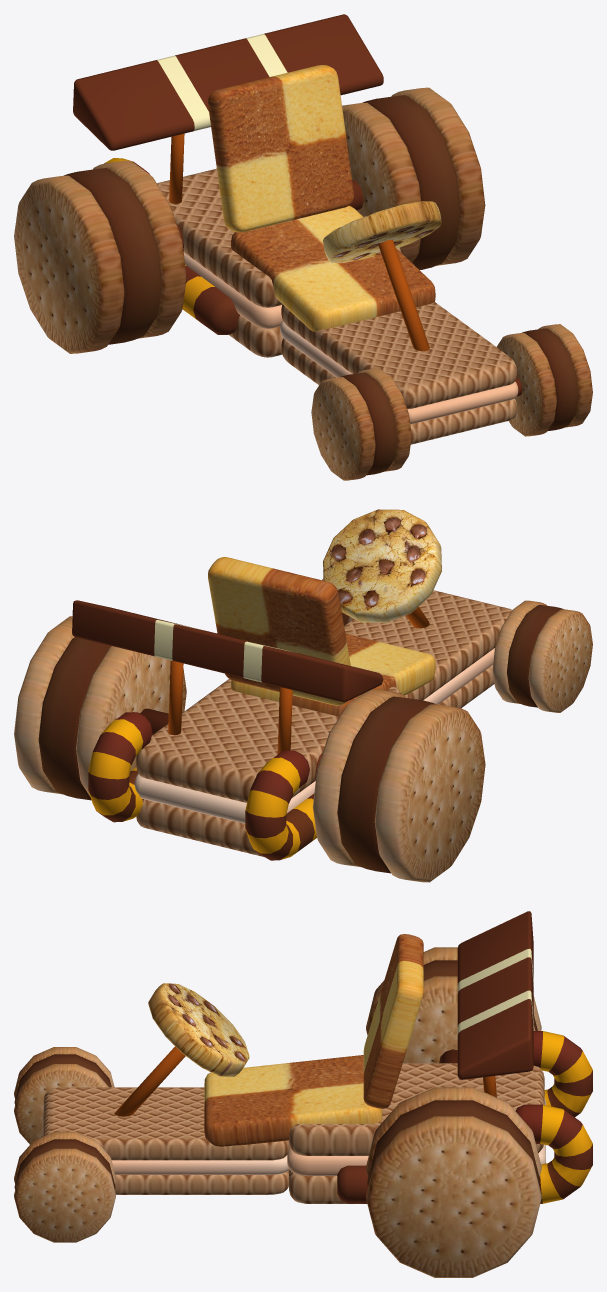
Rendered from cw_car13.fbx.
The picture shows the model from 3 angles, top to bottom: view 1: azimuth 30°, elevation 25°; view 2: azimuth 150°, elevation 25°; view 3: azimuth 270°, elevation 25°; orthographic projection. The views are drawn at different scales.
Visible parts, largest first — view 1: cw_car13, w13.002, w13.003, w13, w13.001; view 2: cw_car13, w13.002, w13.003, w13; view 3: cw_car13, w13.003, w13.001, w13.002, w13.
Boxes of the visible parts, x1,y1,x2,y2 form: cw_car13: (73,14,522,444); w13.002: (14,160,186,353); w13.003: (342,87,485,269); w13: (311,368,411,480); w13.001: (497,324,592,436); cw_car13: (72,509,511,860); w13.002: (312,689,485,882); w13.003: (14,616,186,800); w13: (492,600,592,712); cw_car13: (42,911,592,1203); w13.003: (366,1087,541,1277); w13.001: (14,1132,115,1242); w13.002: (366,947,541,1063); w13: (14,1047,114,1144).
Bounding box in the file's own units: 158 × 94.54 × 214.
